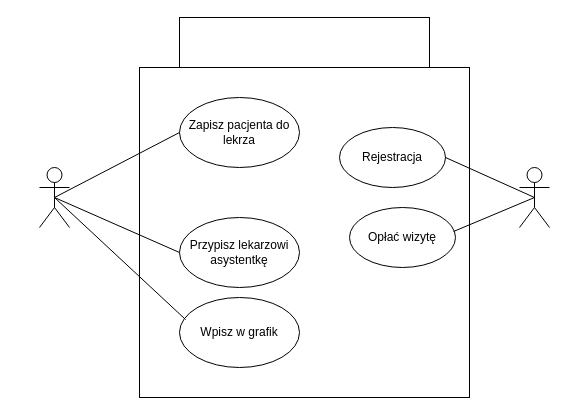
The diagram is 572 pixels wide and 415 high, and some of its shapes have lost their labels. Each missing label, with the box of its shape:
Pacjent: (518, 166, 550, 228)
Recepjonistka: (38, 166, 70, 228)
Rejestracja wizyty: (178, 16, 430, 68)
